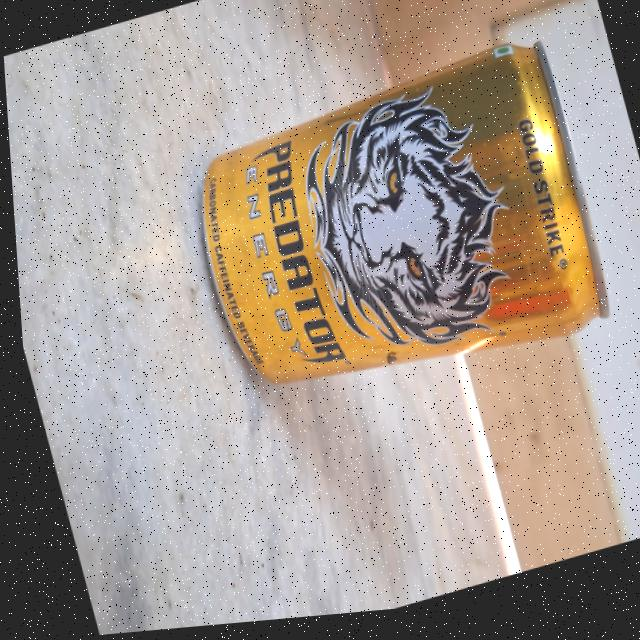Predator: (151, 27, 627, 454)
